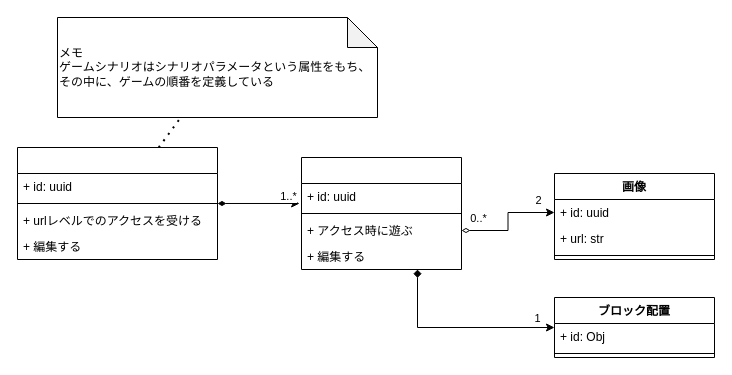
Image size: 732x375. Some labels were removed from this diagram. Here are the shapes that lost their labels. From the top down, the box of each, then its label:
(16, 146, 218, 260): ゲームシナリオ
(300, 156, 462, 270): ゲーム
